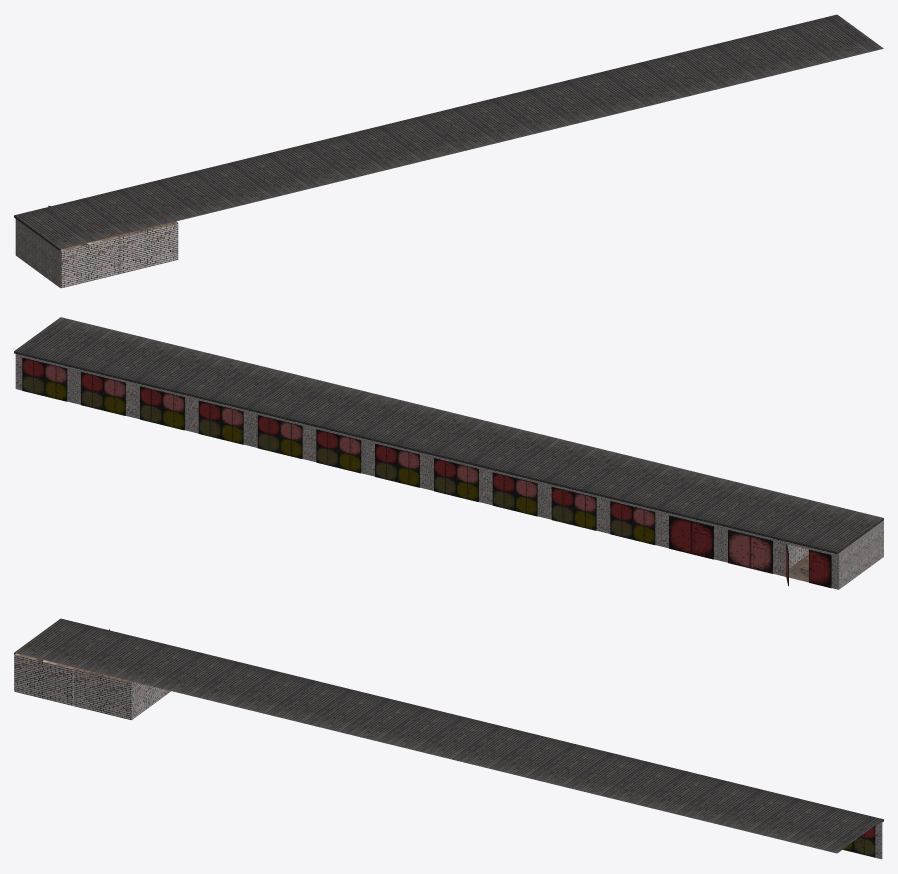
Rendered from garagi.fbx.
3 views of the same model, one above another, from view 1: azimuth 30°, elevation 25°; view 2: azimuth 150°, elevation 25°; view 3: azimuth 330°, elevation 25° (orthographic).
Parts seen in each view (by area): view 1: Cube.001; view 2: Cube.001; view 3: Cube.001.
Part boxes in pixels (left/top/right/bottom): Cube.001: left=14, top=14, right=883, bottom=288; Cube.001: left=14, top=317, right=883, bottom=589; Cube.001: left=14, top=618, right=883, bottom=859.
Bounding box in the file's own units: 7181 × 324 × 815.
